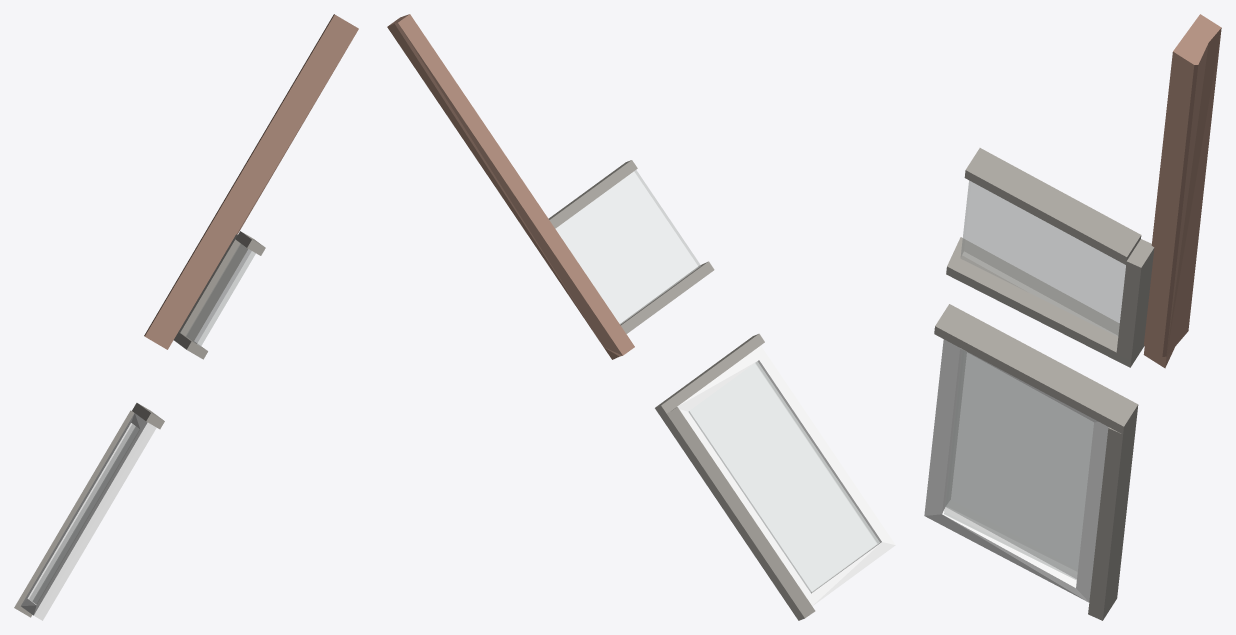
The picture shows the model from 3 angles, left to right: view 1: azimuth 30°, elevation 25°; view 2: azimuth 150°, elevation 25°; view 3: azimuth 270°, elevation 25°; orthographic projection. The views are drawn at different scales.
Parts seen in each view (by area): view 1: mesh; view 2: mesh; view 3: mesh.
Part boxes in pixels (x1,y1,x2,y2): mesh: (14,14,358,620); mesh: (387,14,895,620); mesh: (924,14,1221,620).
Bounding box in the file's own units: 3.17 × 3.81 × 1.14.
